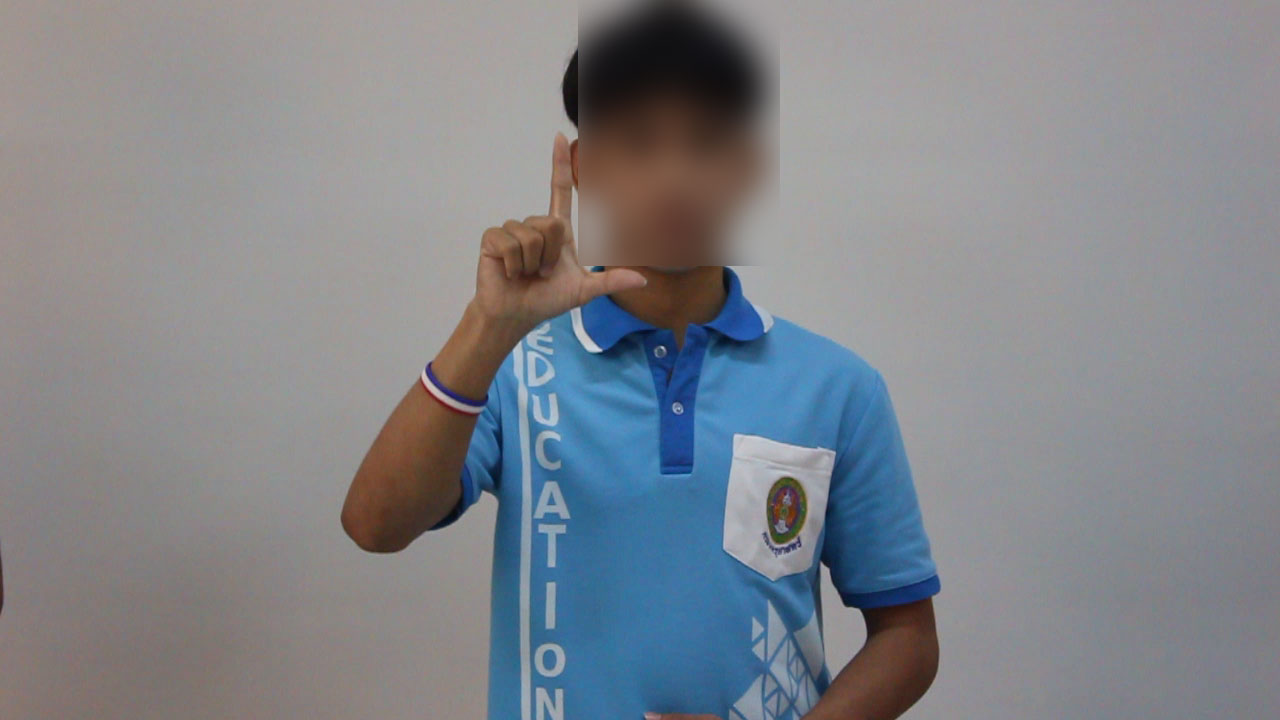lor: (429, 97, 660, 357)
